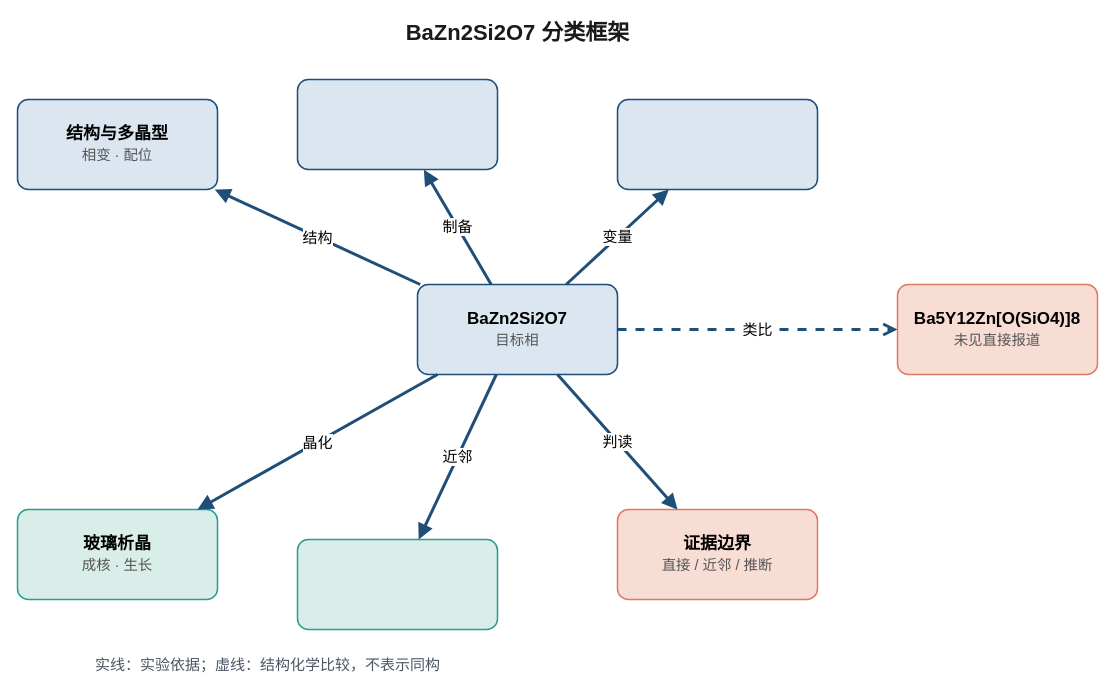
The diagram is 1116 pixels wide and 693 high, and some of its shapes have lost their labels. Here are the shapes that lost their labels. From the top down, the centre of each, then its label:
At [397,124]: "合成路线 固相 · 溶胶—凝胶".
At [717,144]: "组成与热处理 Ba/Sr · Zn 位".
At [397,584]: "近邻体系 Ba2ZnSi2O7 等".
